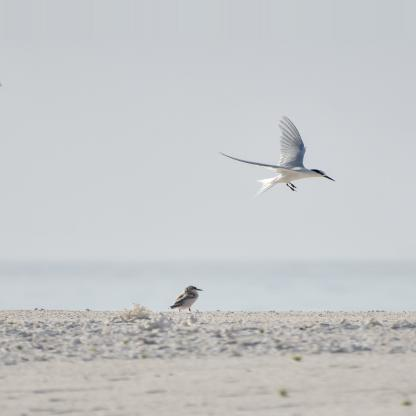bird: (218, 117, 338, 196), (168, 285, 203, 312)
